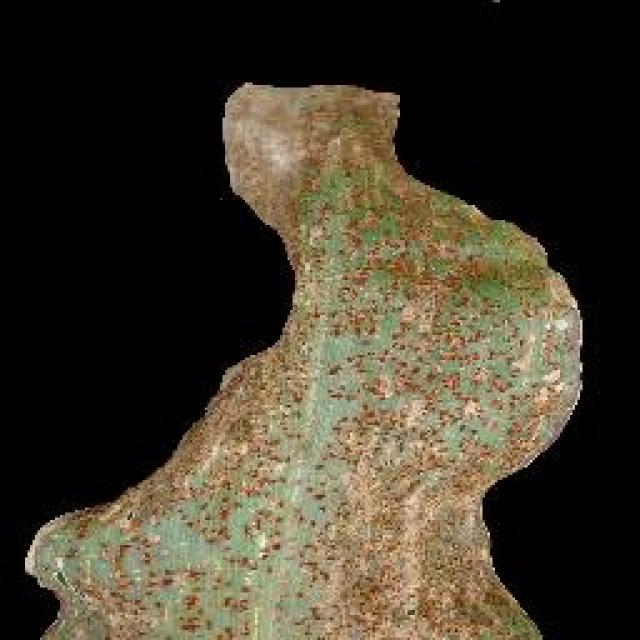Corn Common Rust: (202, 208, 528, 445)
